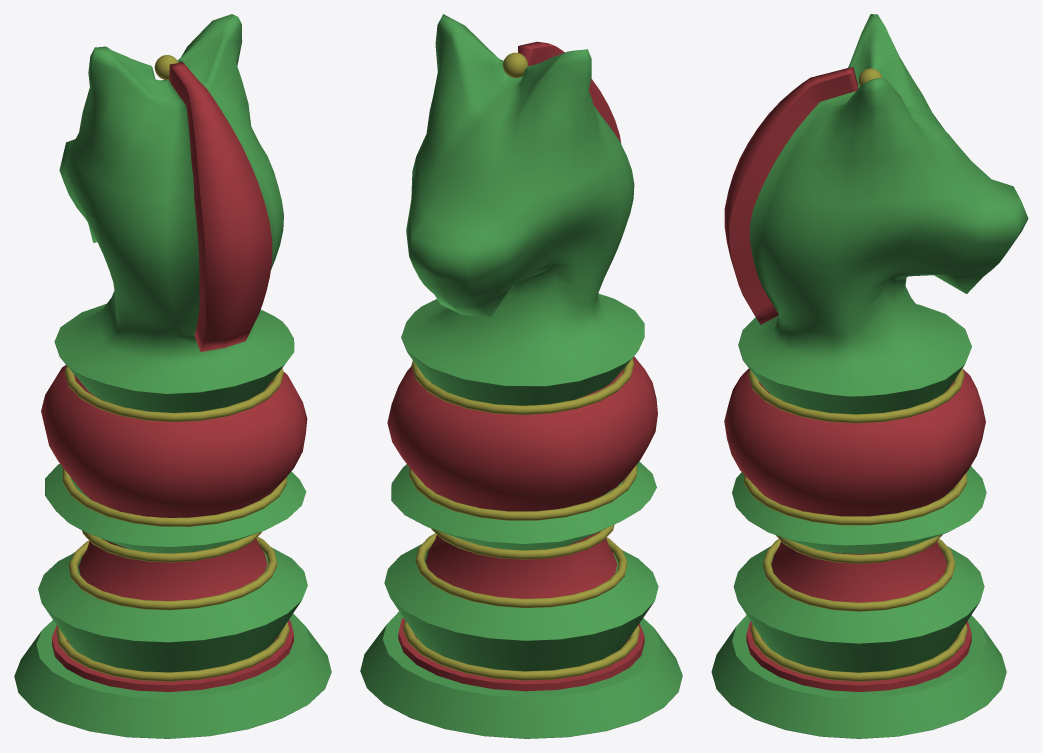
File: Knight_fbx.fbx
3 views of the same model, side by side, from view 1: azimuth 30°, elevation 25°; view 2: azimuth 150°, elevation 25°; view 3: azimuth 270°, elevation 25° (orthographic). The views are drawn at different scales.
Parts seen in each view (by area): view 1: Knight; view 2: Knight; view 3: Knight.
Part boxes in pixels (box(x1,y1,x2,y2)): Knight: box(14, 14, 331, 738); Knight: box(360, 14, 682, 738); Knight: box(711, 14, 1028, 738).
Bounding box in the file's own units: 0.0276 × 0.06 × 0.0276.
